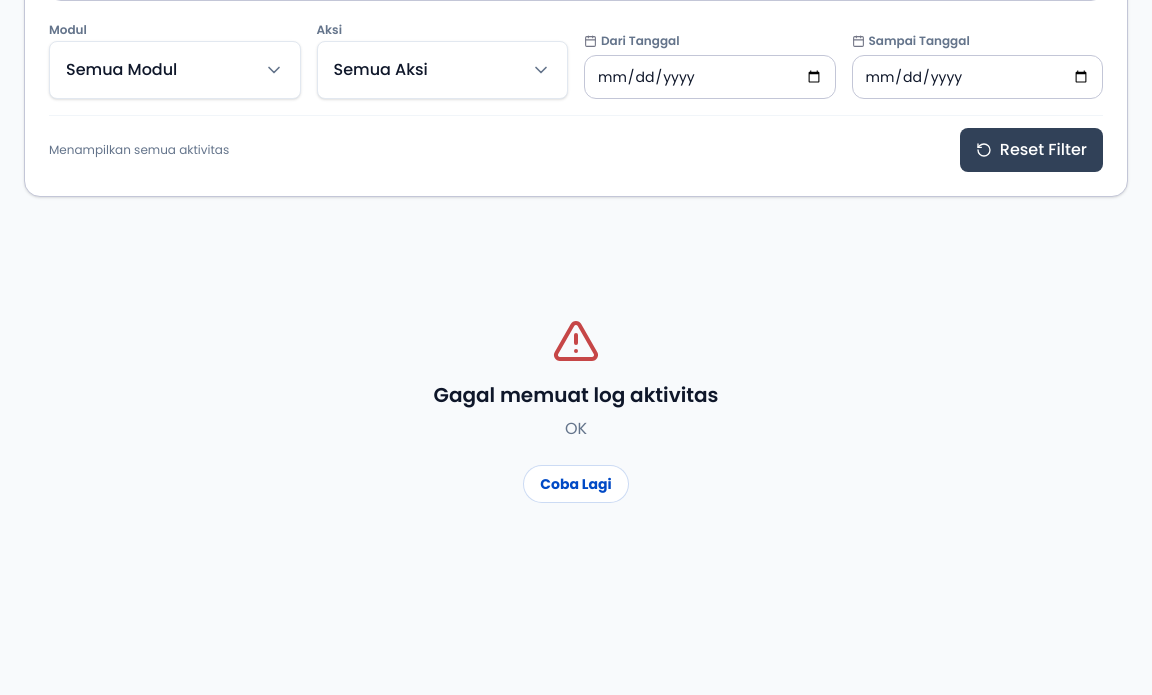
Halaman Audit Log (Admin Kabupaten) › menampilkan ErrorState dan memuat ulang saat tombol coba lagi ditekan
(page scrolled)
Check: the heading "Gagal memuat log aktivitas" is shown, box [434,381,718,409]
Click the button "Coba Lagi". click: {"x": 576, "y": 484}
box: [523,465,629,503]
(page scrolled)
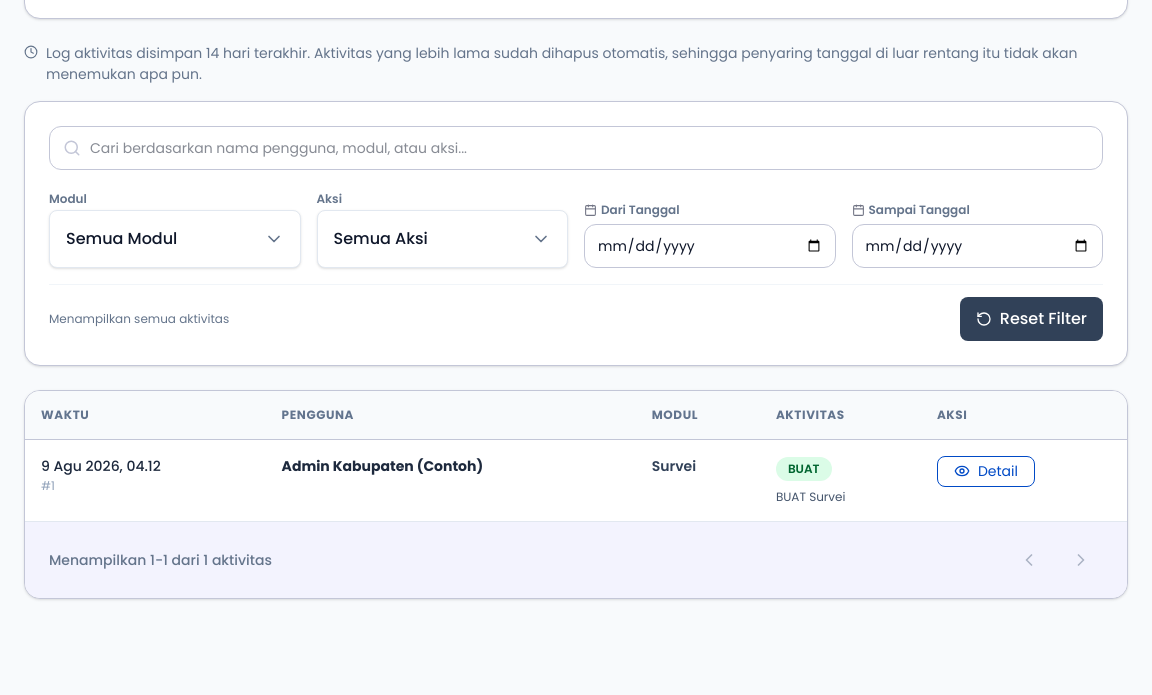
Check: the text "BUAT Survei" is shown, box [776,488,846,505]
